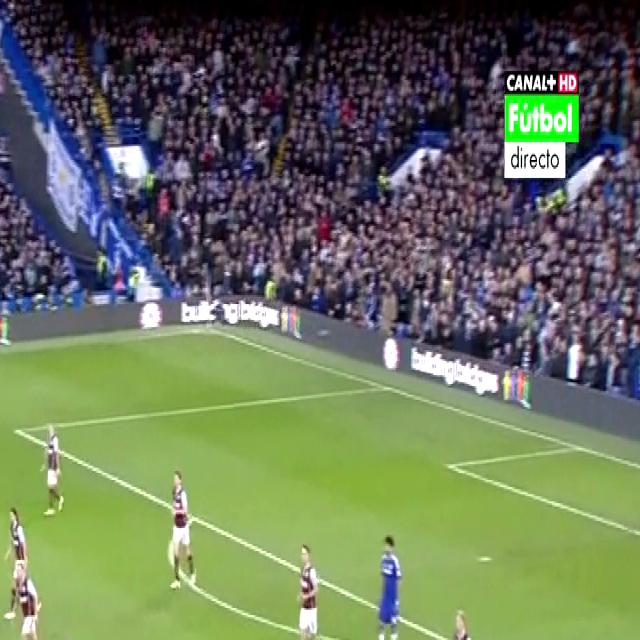soccer-player: (289, 526, 337, 640), (163, 458, 201, 601), (366, 517, 409, 640), (23, 410, 69, 521), (0, 494, 31, 622), (14, 560, 52, 640), (444, 597, 487, 640), (48, 636, 91, 640)
